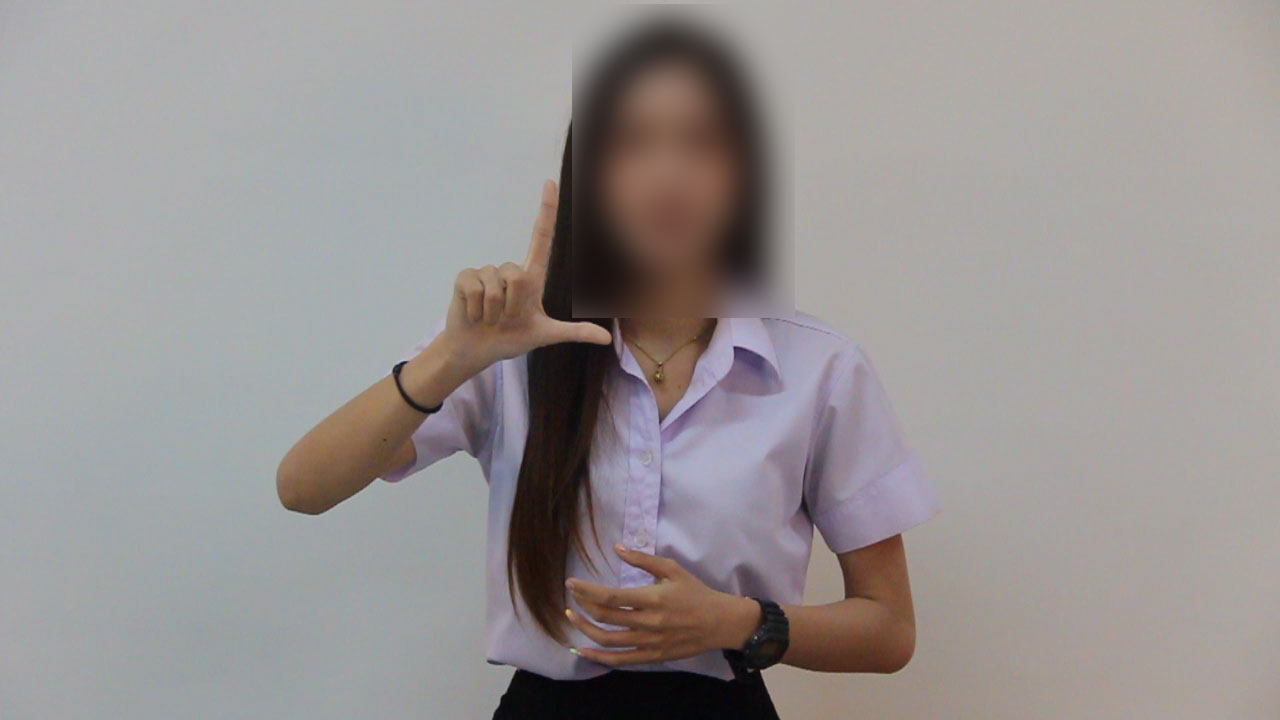lor: (419, 176, 642, 399)
